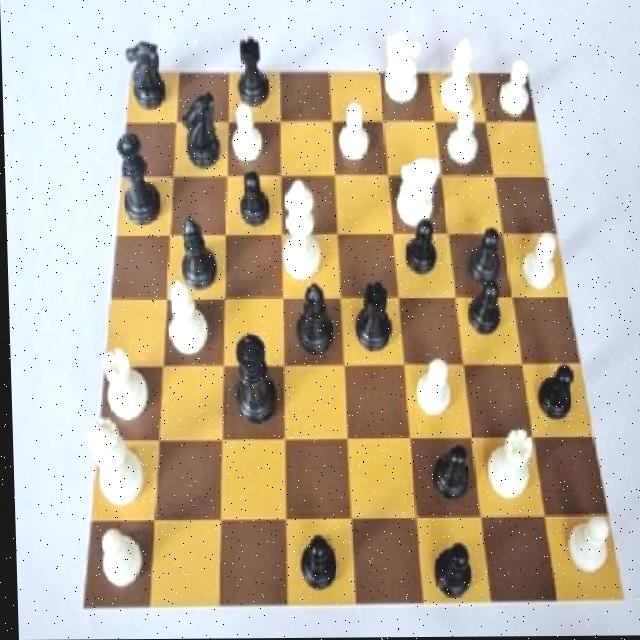bishop: (169, 213, 220, 294), (289, 279, 333, 352)
black-bishop: (222, 331, 284, 424)
black-king: (178, 86, 224, 172), (123, 34, 172, 112)
black-knight: (529, 357, 582, 429), (459, 225, 508, 298), (459, 277, 510, 346), (289, 532, 343, 597), (429, 536, 475, 607), (427, 445, 474, 510), (400, 217, 440, 288), (235, 161, 272, 236)
black-pawn: (110, 127, 167, 231)
black-queen: (345, 268, 398, 353), (234, 34, 275, 110)
black-rook: (162, 274, 208, 363), (442, 31, 484, 120)
white-bishop: (277, 176, 322, 285)
white-king: (390, 155, 441, 233), (380, 25, 424, 115)
white-knight: (97, 522, 146, 600), (557, 508, 612, 577), (224, 98, 270, 175), (491, 57, 539, 128), (408, 357, 455, 429), (334, 93, 375, 171), (437, 108, 484, 171), (516, 231, 559, 294)
white-pawn: (81, 399, 146, 516)
white-queen: (101, 338, 155, 425), (484, 422, 533, 504)
